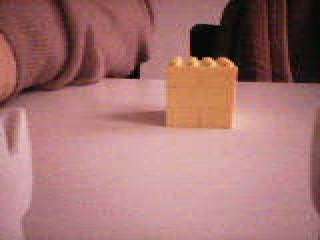legocube: (163, 54, 238, 131)
